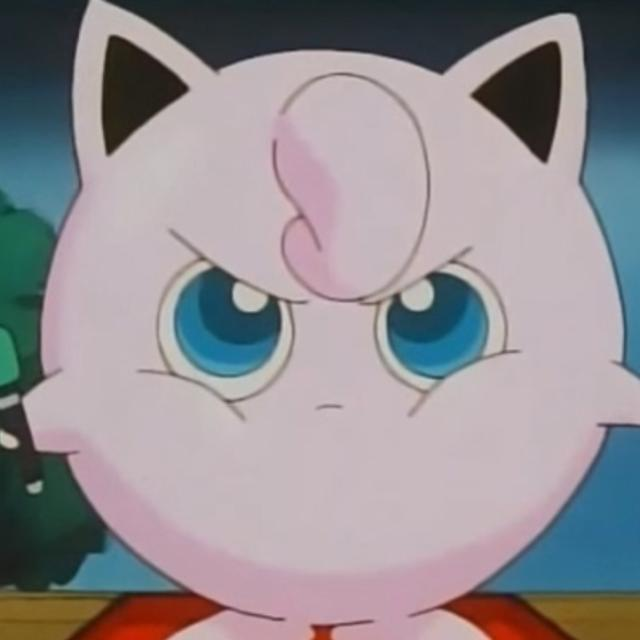Jigglypuff: (23, 0, 640, 621)
